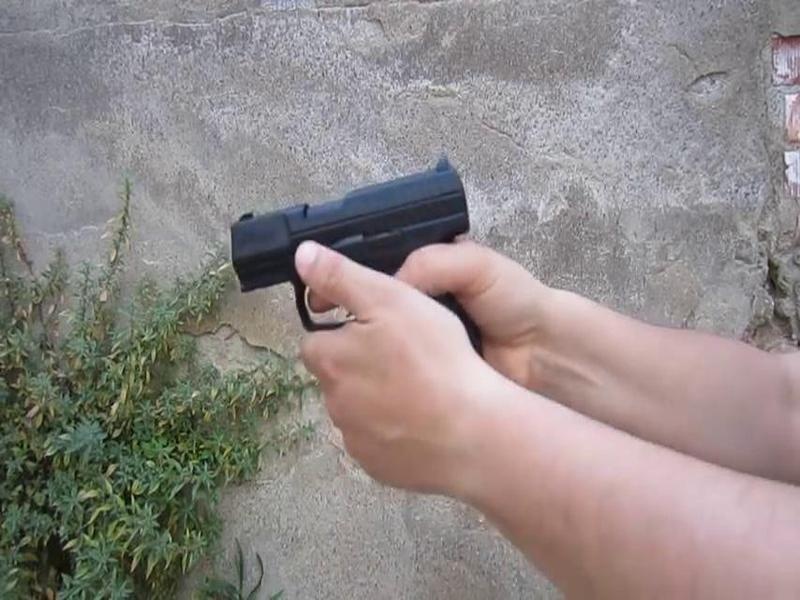Pistola: (237, 144, 487, 378)
